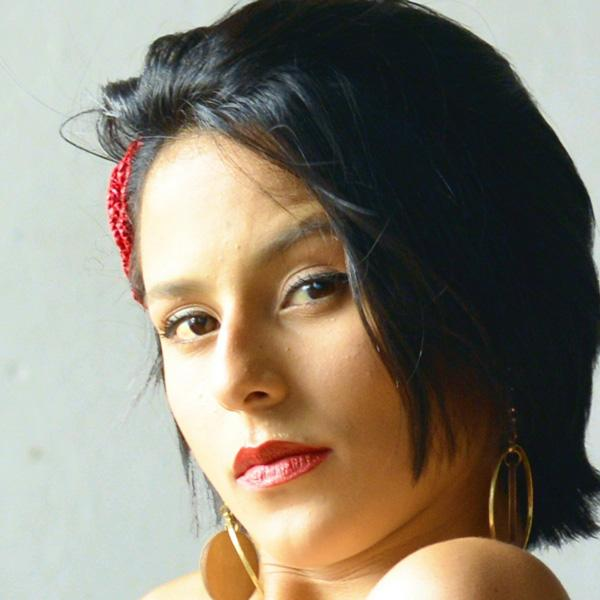Eyes: (268, 256, 361, 325), (155, 296, 226, 358)
